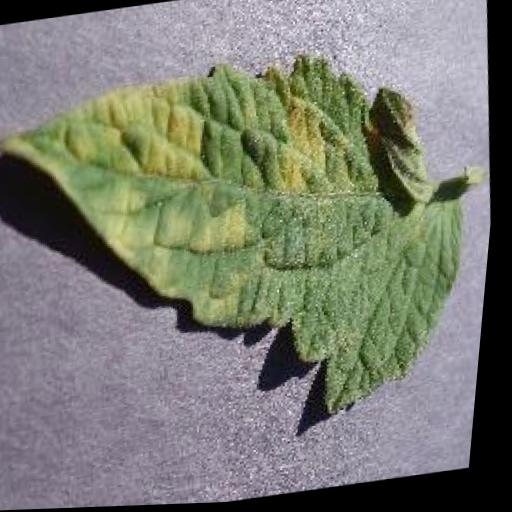Leaf Mold: (0, 28, 504, 463)
